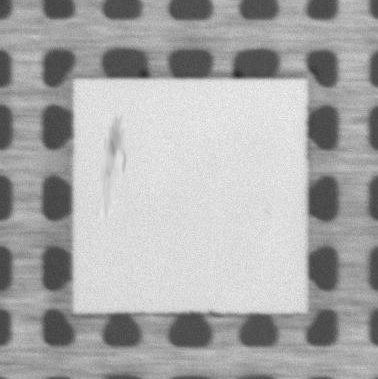DIE_INK: (94, 111, 130, 224)
